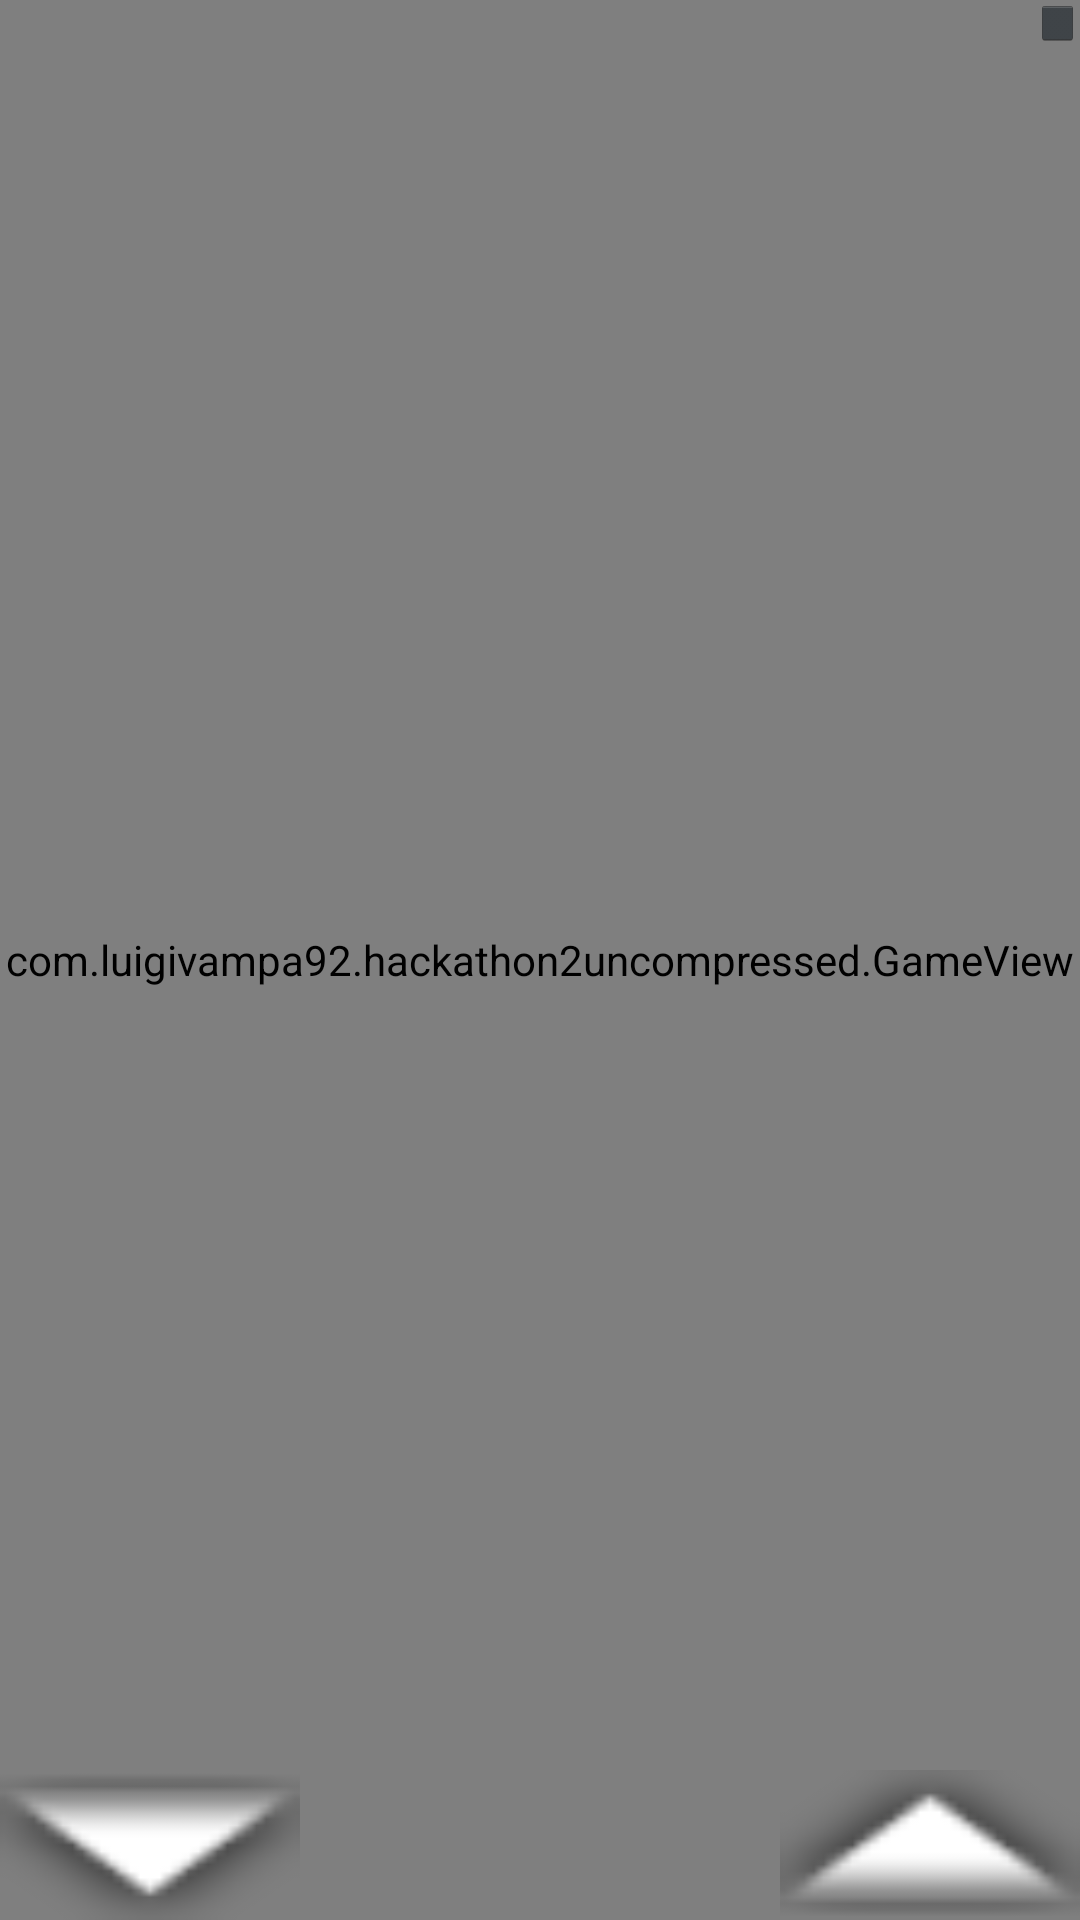

Locate icon controls on the screen. Image size 1080 × 1920, boxes as (x1, y1, x2, y2).
arrow down float: (17, 1799, 283, 1902)
arrow up float: (797, 1788, 1063, 1891)
